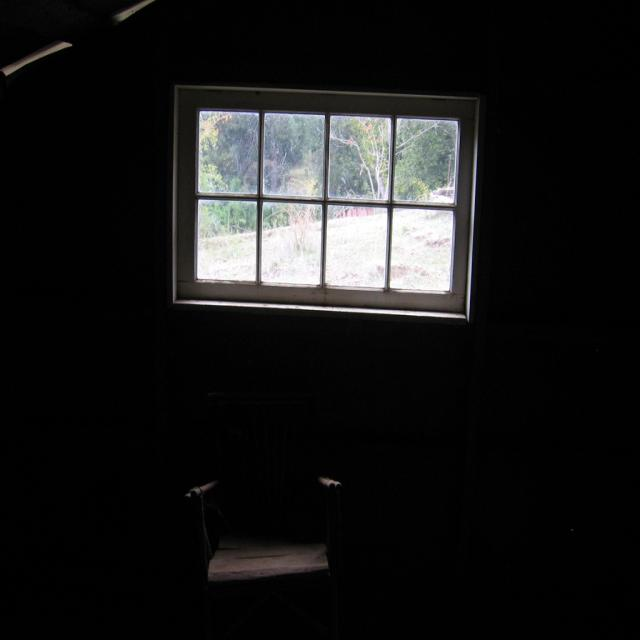chair: (173, 409, 372, 610)
